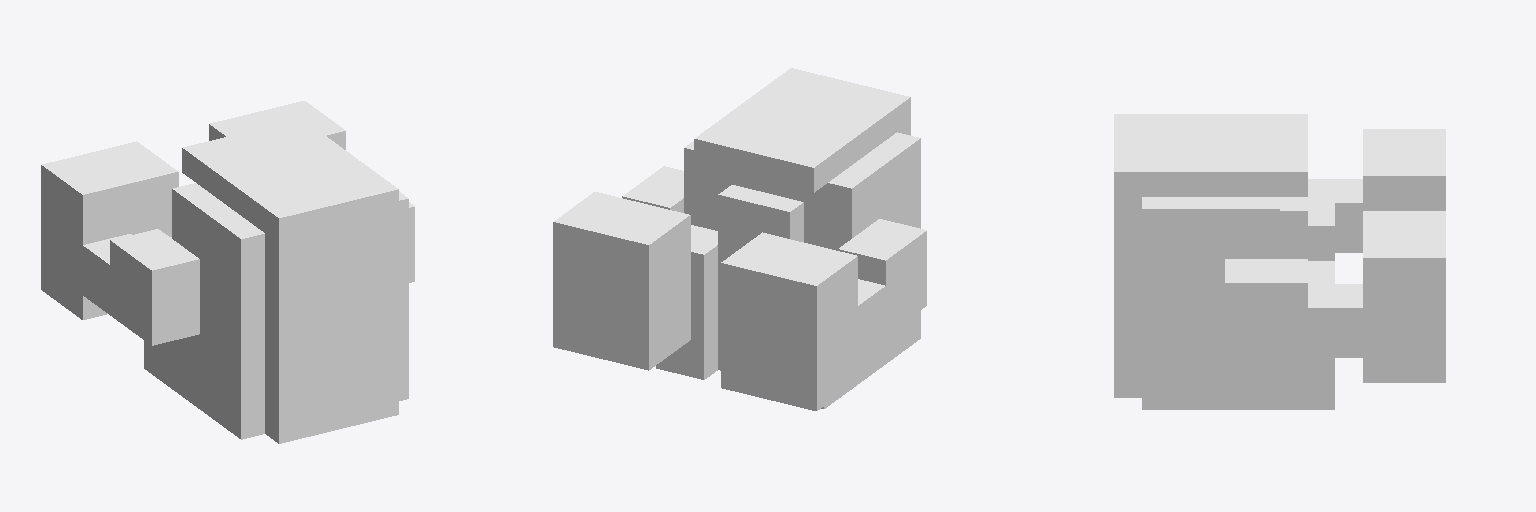
Rendered from stormrider_b.obj.
The picture shows the model from 3 angles: view 1: azimuth 30°, elevation 25°; view 2: azimuth 150°, elevation 25°; view 3: azimuth 270°, elevation 25°; orthographic projection.
Bounding box in the file's own units: 11 × 9 × 12.